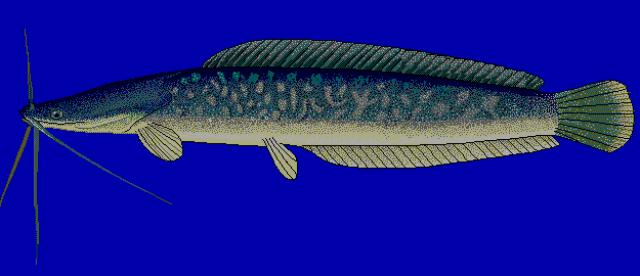Mulut: (16, 110, 96, 146)
Sirip Anal: (296, 133, 568, 177)
Sirip Dada: (130, 118, 190, 168)
Sirip Ekor: (549, 71, 639, 165)
Sirip Perut: (258, 128, 304, 190)
Sirip Punggung: (196, 32, 554, 98)
